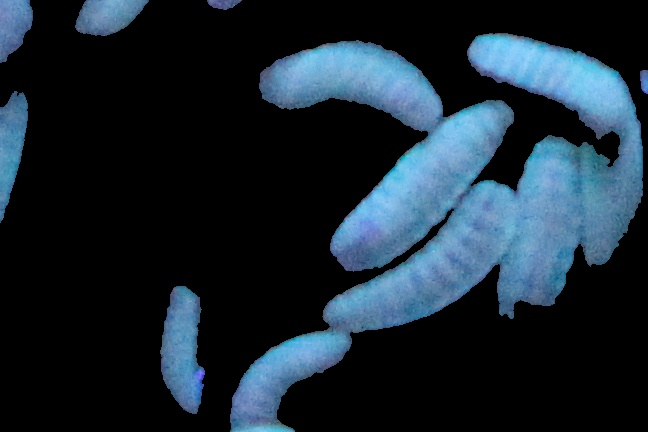larvae: (333, 104, 511, 267), (330, 183, 507, 330), (500, 124, 582, 340), (468, 30, 636, 134), (259, 40, 438, 137), (230, 327, 355, 432), (162, 287, 209, 409)
